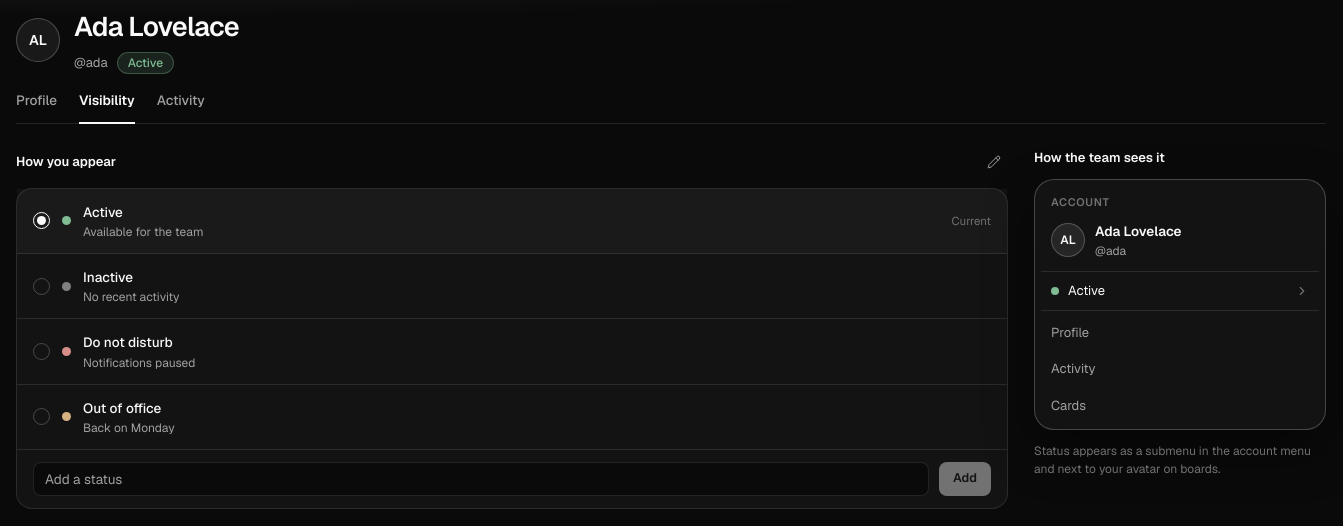
Test: AccountVisibility › updates the header pill and the preview when a status is selected
Click the radio button named "Inactive" at (42, 286), box 33,278 -> 50,295
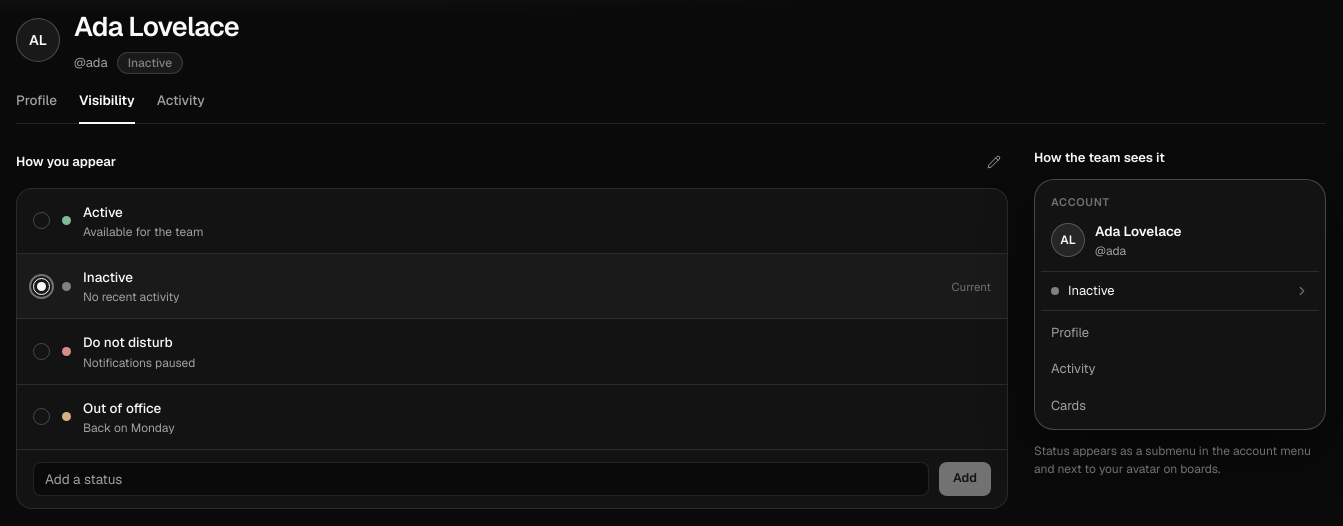
Result: the header "Ada Lovelace" shows "Inactive" at 128,54 -> 172,70
Result: the text "Inactive" below "How the team sees it" is shown at 1068,282 -> 1115,299
